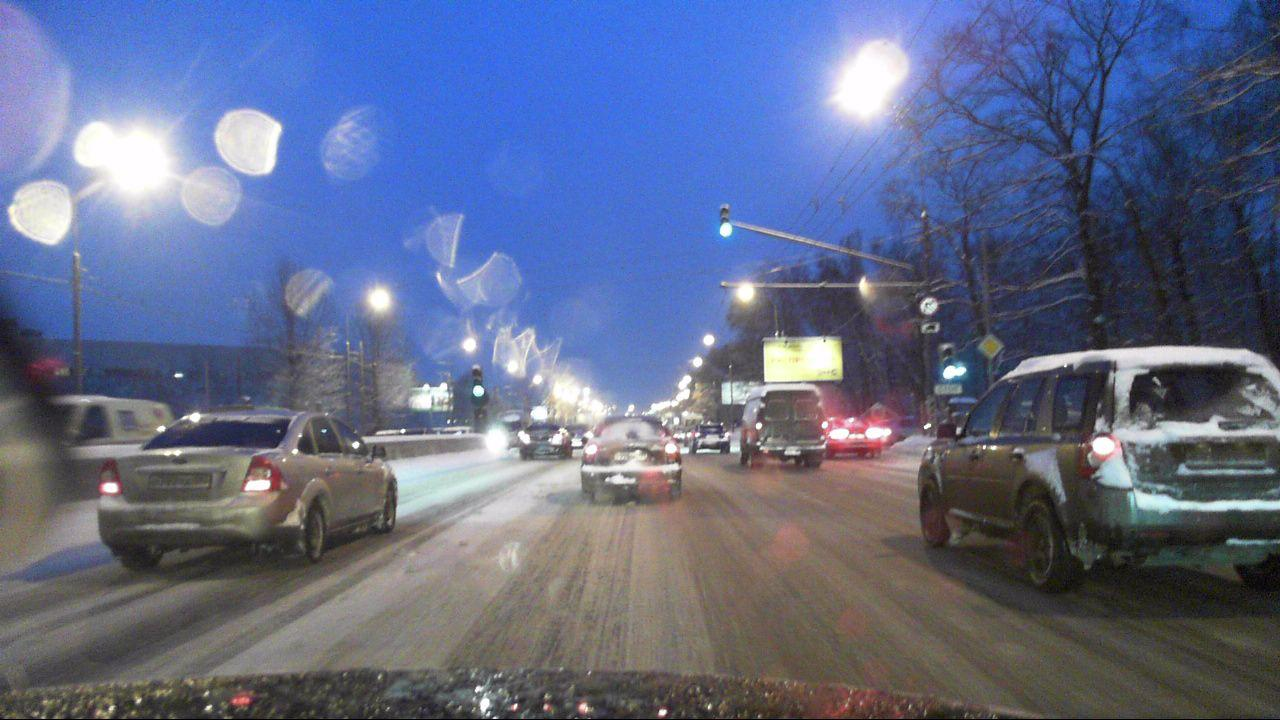2_1: (977, 334, 1004, 359)
3_18_1: (917, 294, 938, 315)
6_16: (933, 383, 962, 396)
8_4_1: (920, 321, 940, 335)
